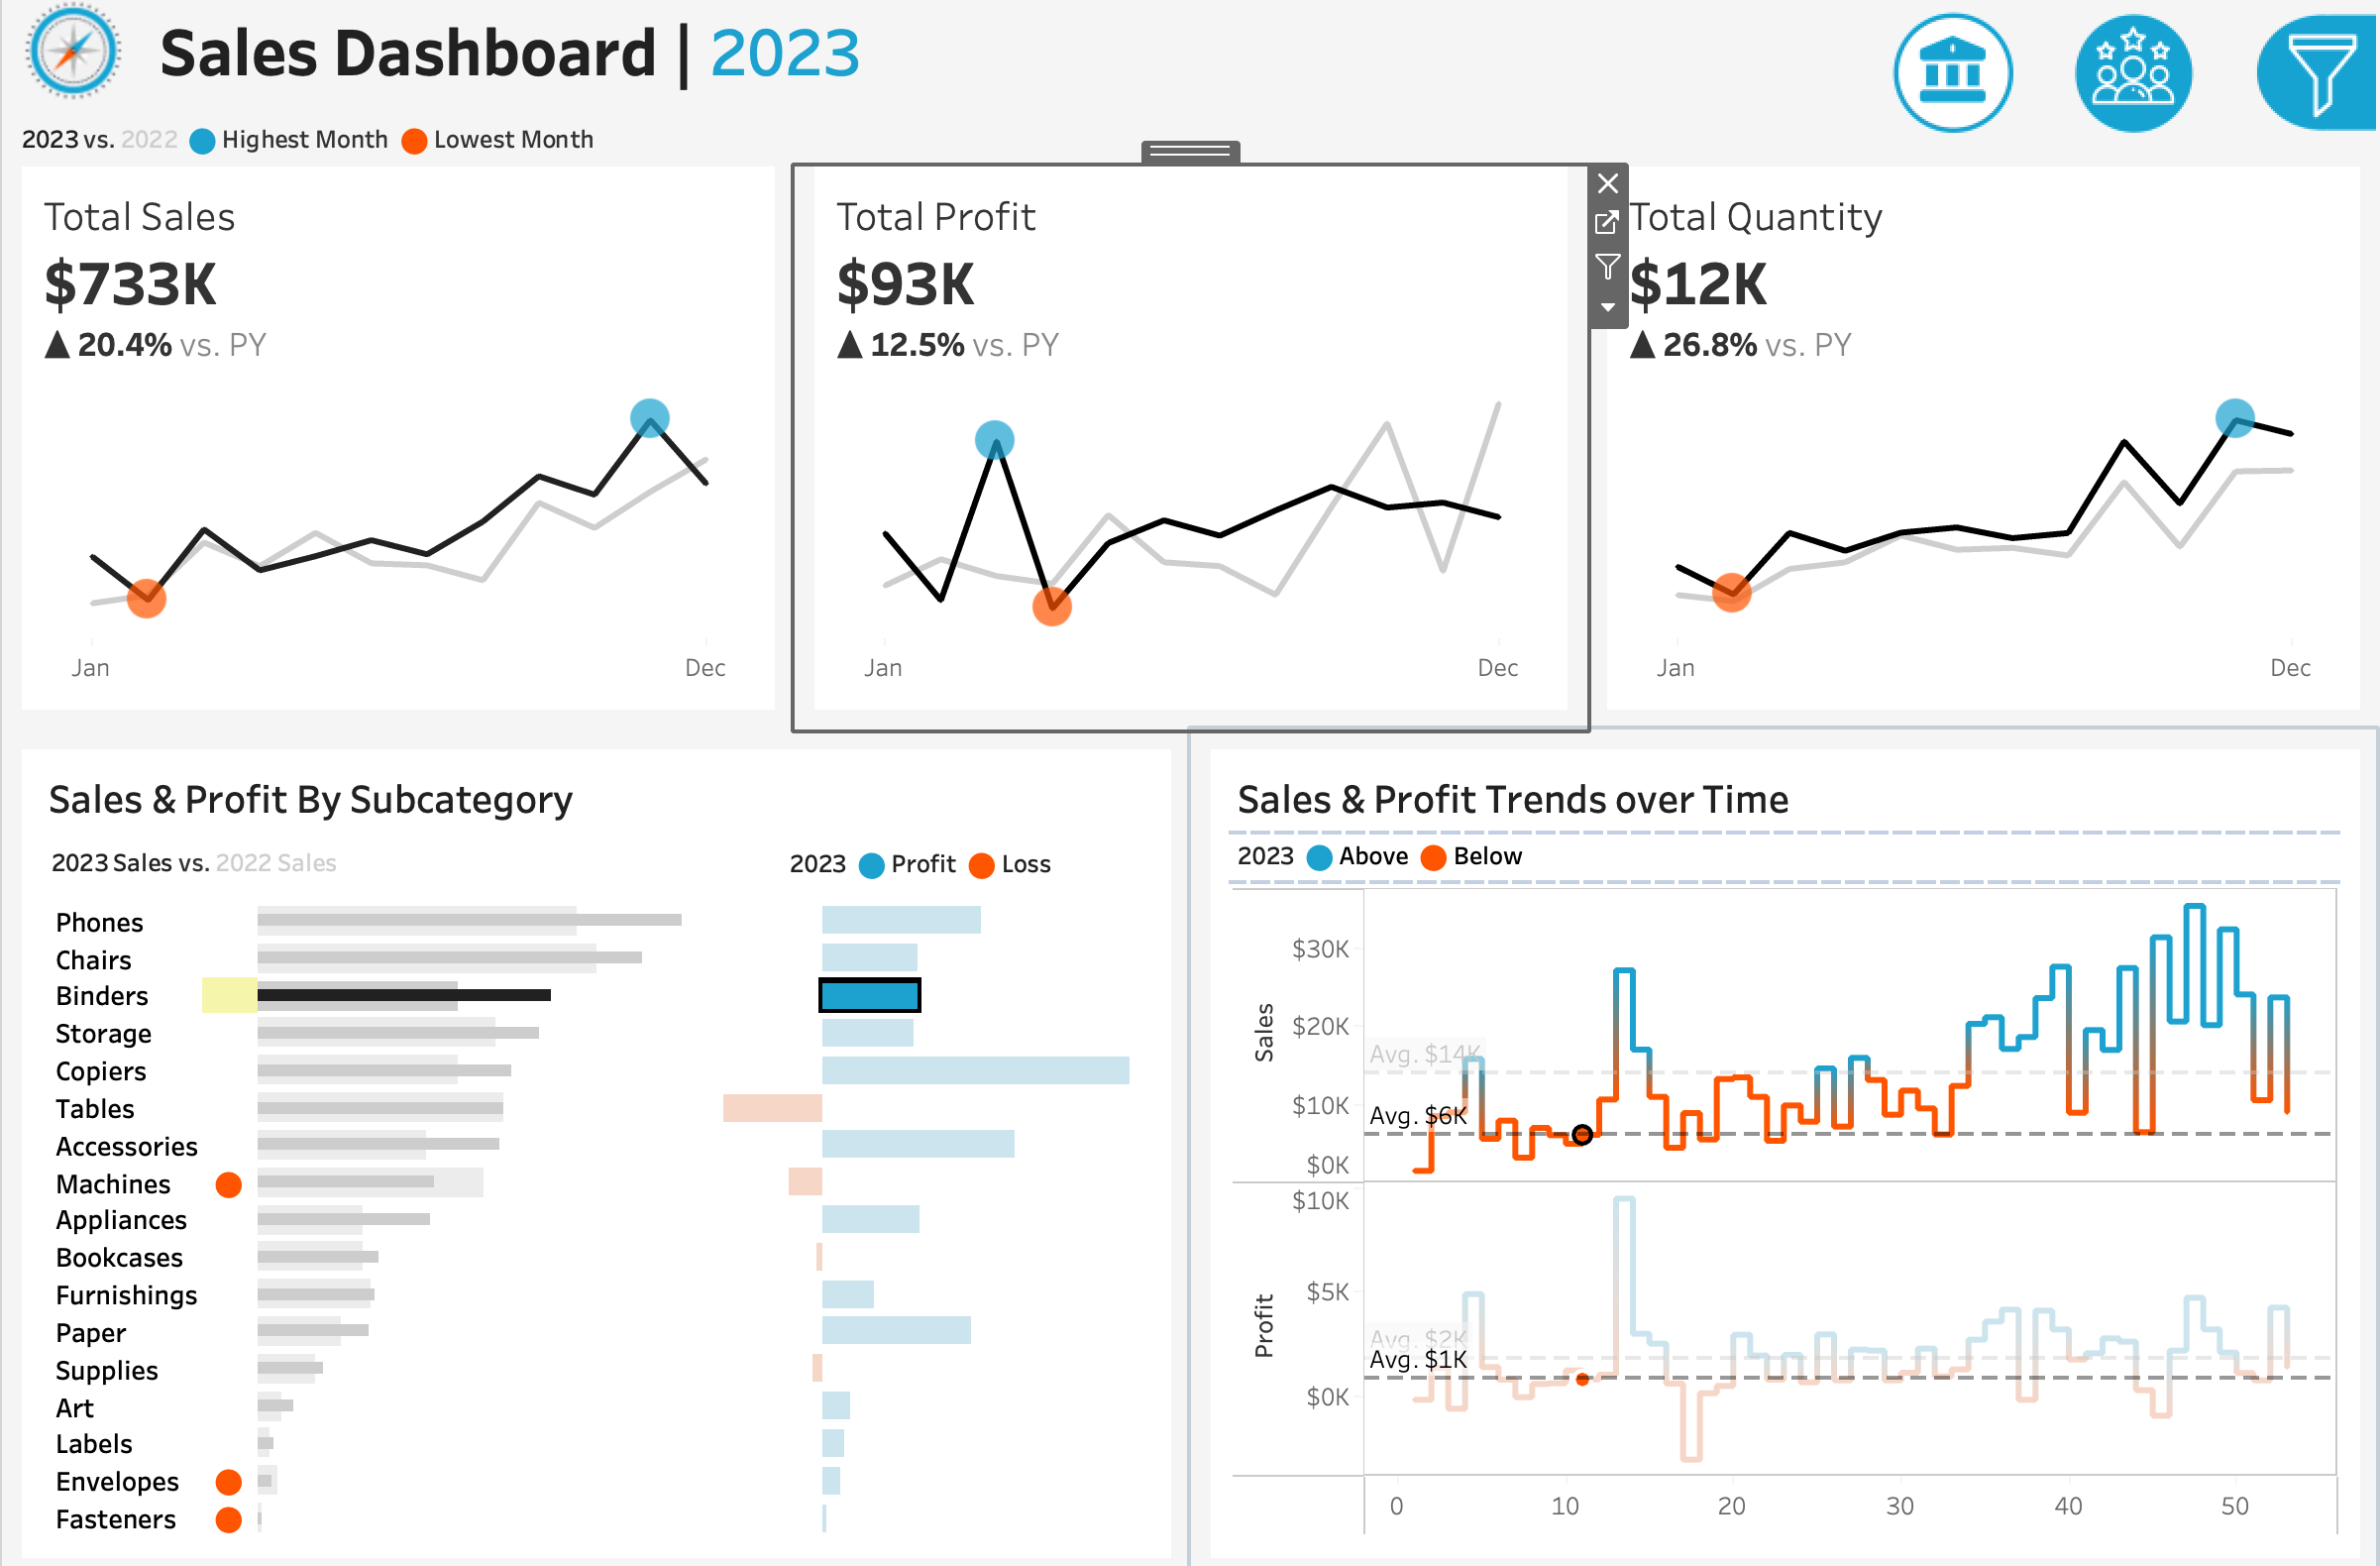

What the dashboard file says about the page in this screenshot:
{"tool":"tableau","page":{"name":"Sales Dashboard","canvas":[1200,800],"ordinal":1},"visuals":[{"type":"image","param":"Image/Icon - Logo.png","box":[0,0,73,59]},{"type":"text","box":[73,0,820,59]},{"type":"dashboard-object","box":[940,6,91,70]},{"type":"dashboard-object","box":[1031,6,91,70]},{"type":"blank","box":[952,10,237,86]},{"type":"worksheet","title":"Legend KPI","mark":"Automatic","box":[0,59,1200,29]},{"type":"worksheet","title":"KPI Sales","mark":"Automatic","rows":["Calculation_721701895347843083"],"cols":["Order Date"],"box":[0,88,400,284]},{"type":"worksheet","title":"KPI Profit","mark":"Automatic","rows":["Min/Max Sales (copy)_237846410425847814"],"cols":["Order Date"],"box":[400,88,400,284]},{"type":"worksheet","title":"KPI Quantity","mark":"Automatic","rows":["Min/Max Sales (copy) (copy)_237846410425856007"],"cols":["Order Date"],"box":[800,88,400,284]},{"type":"text","box":[952,96,237,37]},{"type":"parameter","param":"[Parameters].[Parameter 1]","box":[952,133,237,55]},{"type":"text","box":[952,188,237,32]},{"type":"filter","title":"KPI Sales","param":"[federated.1kpxa041aiai2y1cl4pui1t4eju9].[none:Category:nk]","box":[952,220,237,57]},{"type":"filter","title":"KPI Sales","param":"[federated.1kpxa041aiai2y1cl4pui1t4eju9].[none:Sub-Category:nk]","box":[952,277,237,57]},{"type":"blank","box":[952,334,237,60]},{"type":"text","box":[17,389,566,34]},{"type":"text","box":[617,389,566,34]},{"type":"text","box":[952,394,237,32]},{"type":"worksheet","title":"Legend Subcategory","mark":"Automatic","box":[17,423,374,32]},{"type":"text","box":[391,423,192,32]},{"type":"text","box":[617,423,566,25]},{"type":"filter","title":"KPI Sales","param":"[federated.1kpxa041aiai2y1cl4pui1t4eju9].[none:Region:nk]","box":[952,426,237,57]},{"type":"worksheet","title":"Weekly Trends","mark":"Automatic","rows":["Calculation_721701895334993921","CY Sales (copy)_237846410424180736"],"cols":["Order Date"],"box":[617,448,566,335]},{"type":"worksheet","title":"Subcategory Comparison","mark":"Bar","rows":["Sub-Category","Calculation_2435040078806671369"],"cols":["CY Sales (copy)_721701895335804930","Calculation_721701895334993921","CY Sales (copy)_237846410424180736"],"box":[17,455,566,327.9]},{"type":"filter","title":"KPI Sales","param":"[federated.1kpxa041aiai2y1cl4pui1t4eju9].[none:State:nk]","box":[952,483,237,57]},{"type":"filter","title":"KPI Sales","param":"[federated.1kpxa041aiai2y1cl4pui1t4eju9].[none:City:nk]","box":[952,540,237,57]}]}

Visuals, with their boxes in screenshot pixels (x1, y1, x2, y2), scaled from the page's 1200x800 canvas onto the 2380x1566 screenshot:
image: pyautogui.locateOnScreen(0, 0, 145, 116)
text: pyautogui.locateOnScreen(145, 0, 1771, 116)
dashboard-object: pyautogui.locateOnScreen(1865, 12, 2045, 149)
dashboard-object: pyautogui.locateOnScreen(2045, 12, 2225, 149)
blank: pyautogui.locateOnScreen(1889, 20, 2358, 188)
"Legend KPI" worksheet: pyautogui.locateOnScreen(0, 116, 2379, 172)
"KPI Sales" worksheet: pyautogui.locateOnScreen(0, 172, 794, 728)
"KPI Profit" worksheet: pyautogui.locateOnScreen(794, 172, 1586, 728)
"KPI Quantity" worksheet: pyautogui.locateOnScreen(1586, 172, 2379, 728)
text: pyautogui.locateOnScreen(1889, 188, 2358, 261)
parameter: pyautogui.locateOnScreen(1889, 261, 2358, 368)
text: pyautogui.locateOnScreen(1889, 368, 2358, 430)
"KPI Sales" filter: pyautogui.locateOnScreen(1889, 430, 2358, 542)
"KPI Sales" filter: pyautogui.locateOnScreen(1889, 542, 2358, 654)
blank: pyautogui.locateOnScreen(1889, 654, 2358, 771)
text: pyautogui.locateOnScreen(34, 761, 1156, 828)
text: pyautogui.locateOnScreen(1224, 761, 2346, 828)
text: pyautogui.locateOnScreen(1889, 771, 2358, 834)
"Legend Subcategory" worksheet: pyautogui.locateOnScreen(34, 828, 776, 891)
text: pyautogui.locateOnScreen(776, 828, 1156, 891)
text: pyautogui.locateOnScreen(1224, 828, 2346, 877)
"KPI Sales" filter: pyautogui.locateOnScreen(1889, 834, 2358, 946)
"Weekly Trends" worksheet: pyautogui.locateOnScreen(1224, 877, 2346, 1532)
"Subcategory Comparison" worksheet (Bar marks): pyautogui.locateOnScreen(34, 891, 1156, 1532)
"KPI Sales" filter: pyautogui.locateOnScreen(1889, 946, 2358, 1057)
"KPI Sales" filter: pyautogui.locateOnScreen(1889, 1057, 2358, 1169)
